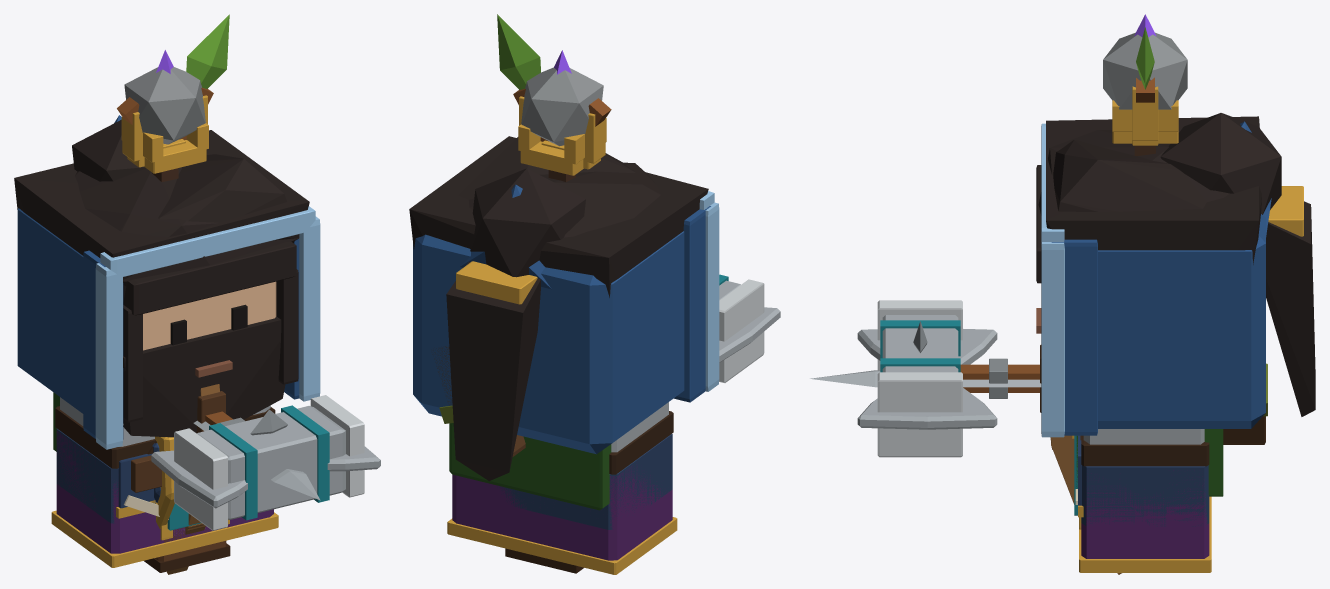
The model's file is characters.glb.
3 renders of one model, left to right at view 1: azimuth 30°, elevation 25°; view 2: azimuth 150°, elevation 25°; view 3: azimuth 270°, elevation 25°, orthographic. The views are drawn at different scales.
Visible parts, largest first — view 1: outfit.mage.1__head, weapon.hammer__hand, beard__head, hair.flat__head, outfit.mage.0__body, outfit.warrior.0__body, staff.life.1__hand, hair.tousled__head, hair.bob__head, hair.short__head, head__head, hair.hood__head (+10 smaller); view 2: outfit.mage.1__head, hair.ponytail__head, outfit.mage.0__body, hair.flat__head, hair.bun__head, staff.life.1__hand, outfit.archer.0__body, outfit.warrior.0__body, hair.tousled__head, weapon.hammer__hand, staff.life.0__hand, hair.short__head (+5 smaller); view 3: outfit.mage.1__head, weapon.hammer__hand, hair.flat__head, outfit.warrior.0__body, outfit.mage.0__body, hair.ponytail__head, hair.short__head, hair.bun__head, weapon.axe__hand, staff.life.1__hand, outfit.warrior.2__body, hair.tousled__head (+7 smaller).
Part boxes in pixels (left/top/right/bottom): outfit.mage.1__head: left=17, top=115, right=320, bottom=449; weapon.hammer__hand: left=174, top=395, right=364, bottom=530; beard__head: left=123, top=316, right=285, bottom=437; hair.flat__head: left=14, top=130, right=309, bottom=279; outfit.mage.0__body: left=51, top=431, right=278, bottom=567; outfit.warrior.0__body: left=55, top=406, right=275, bottom=523; staff.life.1__hand: left=121, top=67, right=208, bottom=173; hair.tousled__head: left=75, top=167, right=298, bottom=285; hair.bob__head: left=123, top=241, right=296, bottom=315; hair.short__head: left=155, top=154, right=286, bottom=236; head__head: left=143, top=281, right=276, bottom=350; hair.hood__head: left=123, top=269, right=298, bottom=422; outfit.mage.1__head: left=413, top=184, right=719, bottom=454; hair.ponytail__head: left=446, top=261, right=540, bottom=480; outfit.mage.0__body: left=447, top=464, right=677, bottom=574; hair.flat__head: left=409, top=136, right=708, bottom=297; hair.bun__head: left=470, top=168, right=585, bottom=277; staff.life.1__hand: left=518, top=67, right=606, bottom=175; outfit.archer.0__body: left=449, top=423, right=611, bottom=510; outfit.warrior.0__body: left=497, top=411, right=673, bottom=529; hair.tousled__head: left=468, top=162, right=660, bottom=237; weapon.hammer__hand: left=719, top=274, right=764, bottom=382; staff.life.0__hand: left=497, top=14, right=611, bottom=141; hair.short__head: left=458, top=137, right=635, bottom=199; outfit.mage.1__head: left=1041, top=121, right=1271, bottom=437; weapon.hammer__hand: left=877, top=300, right=1039, bottom=457; hair.flat__head: left=1046, top=116, right=1261, bottom=264; outfit.warrior.0__body: left=1072, top=435, right=1209, bottom=526; outfit.mage.0__body: left=1079, top=470, right=1211, bottom=572; hair.ponytail__head: left=1266, top=186, right=1315, bottom=416; hair.short__head: left=1053, top=140, right=1206, bottom=211; hair.bun__head: left=1160, top=113, right=1281, bottom=214; weapon.axe__hand: left=857, top=329, right=1039, bottom=429; staff.life.1__hand: left=1103, top=32, right=1187, bottom=143; outfit.warrior.2__body: left=1074, top=429, right=1204, bottom=515; hair.tousled__head: left=1038, top=130, right=1229, bottom=215.
Size of the model in its own units: 1.13 by 2.69 by 2.14.
